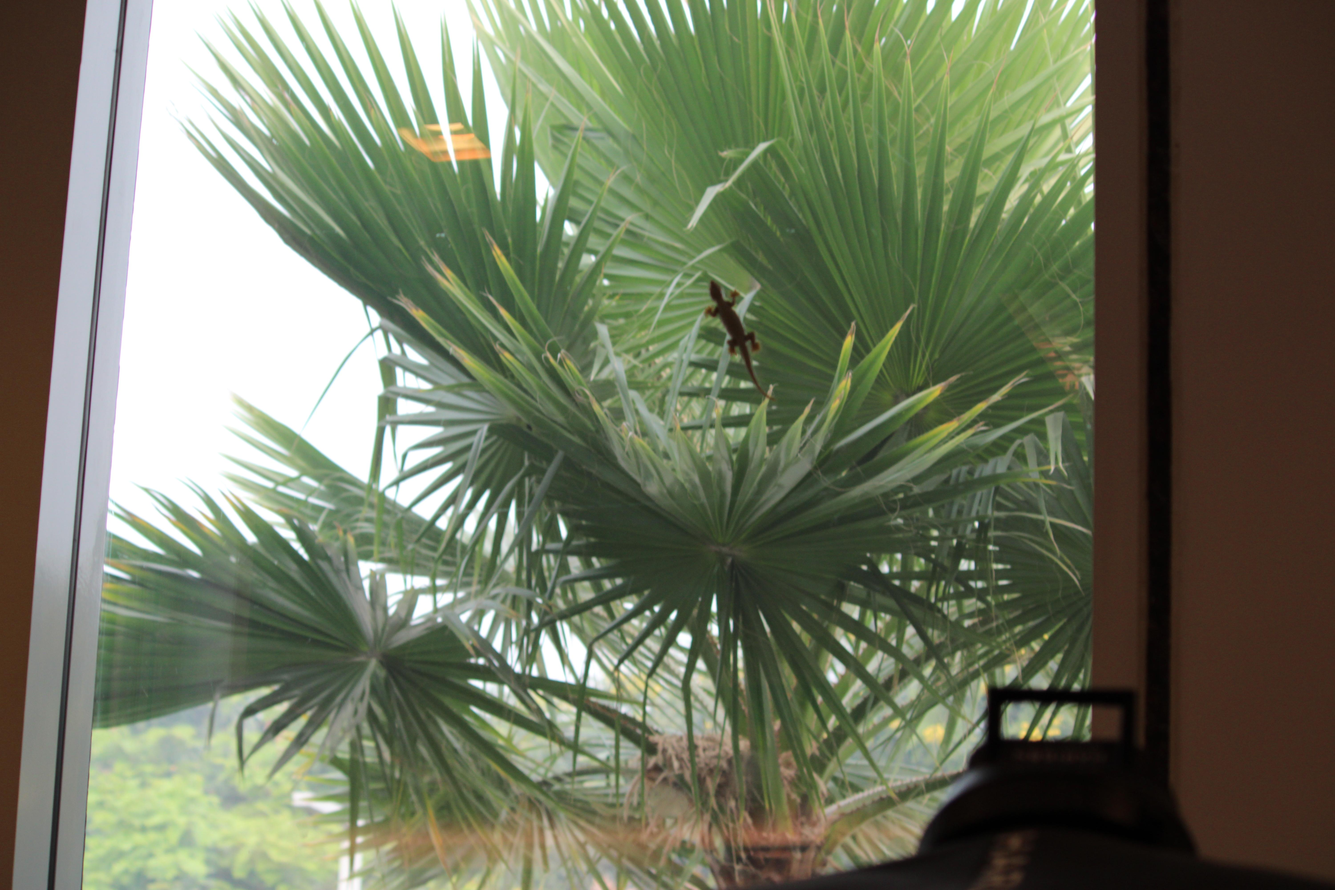lizard: (690, 270, 772, 401)
